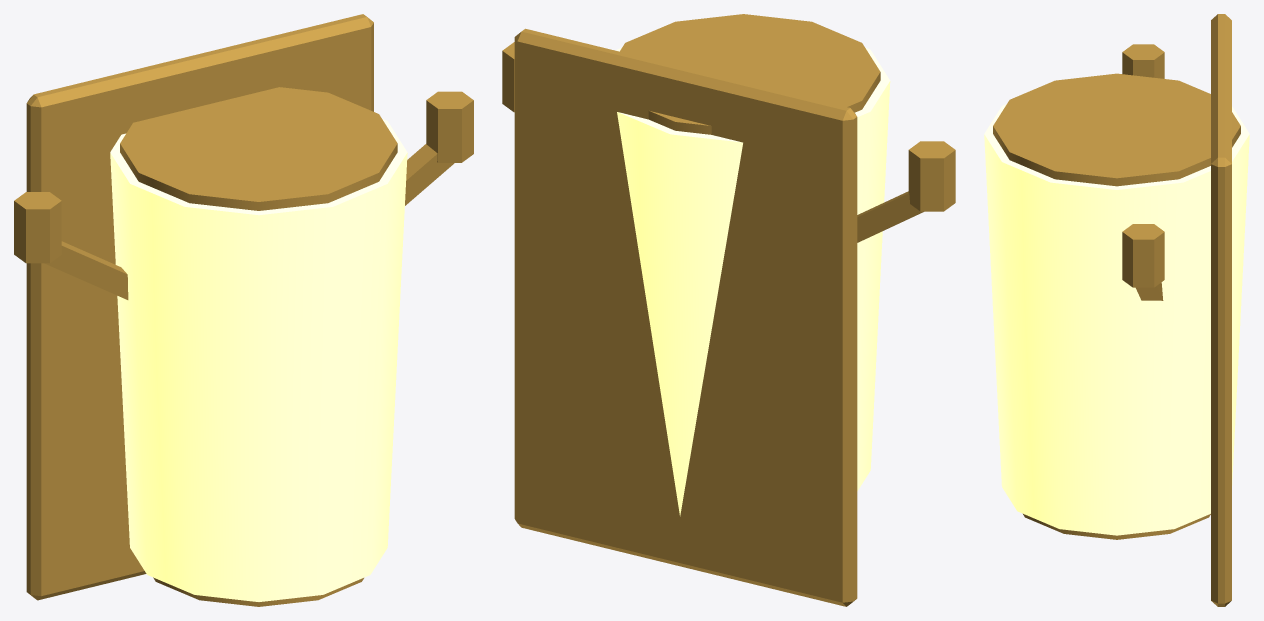
File: wall_sconce.glb
The picture shows the model from 3 angles, left to right: view 1: azimuth 30°, elevation 25°; view 2: azimuth 150°, elevation 25°; view 3: azimuth 270°, elevation 25°; orthographic projection. The views are drawn at different scales.
Parts seen in each view (by area): view 1: wall_sconce; view 2: wall_sconce; view 3: wall_sconce.
Boxes of the visible parts, left/top/right/bottom form: wall_sconce: left=14, top=14, right=473, bottom=606; wall_sconce: left=502, top=14, right=955, bottom=606; wall_sconce: left=984, top=14, right=1249, bottom=606.
Size of the model in its own units: 0.2608 by 0.28 by 0.15.
